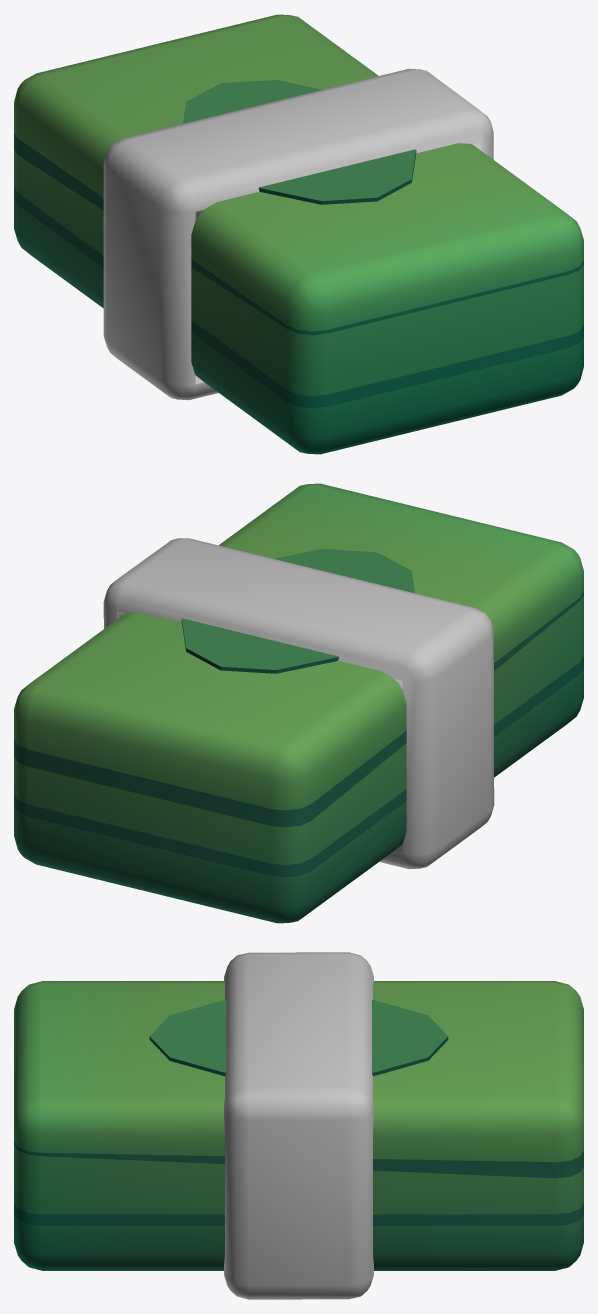
The model's file is Money.fbx.
3 views of the same model, one above another, from view 1: azimuth 30°, elevation 25°; view 2: azimuth 150°, elevation 25°; view 3: azimuth 270°, elevation 25° (orthographic). The views are drawn at different scales.
Visible parts, largest first — view 1: Cube.078, Cube.085, Circle.007; view 2: Cube.078, Cube.085, Circle.007; view 3: Cube.078, Cube.085, Circle.007.
Part boxes in pixels (x1,y1,x2,y2): Cube.078: [14, 14, 583, 454]; Cube.085: [103, 68, 493, 400]; Circle.007: [183, 80, 416, 204]; Cube.078: [14, 483, 583, 923]; Cube.085: [103, 538, 494, 869]; Circle.007: [181, 549, 414, 673]; Cube.078: [14, 981, 583, 1270]; Cube.085: [224, 952, 373, 1299]; Circle.007: [149, 1000, 448, 1076].
Bounding box in the file's own units: 0.5294 × 0.3366 × 0.8278.
